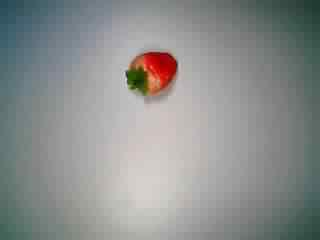strawberry: (116, 42, 182, 108)
